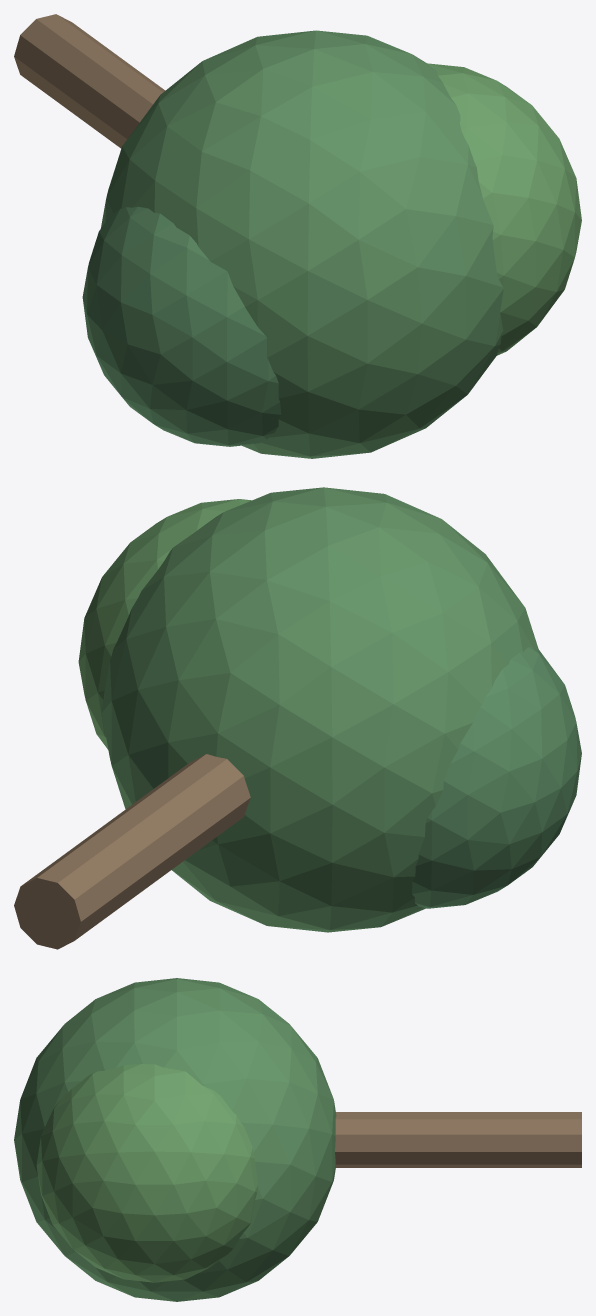
File: jungle_tree_01.glb
The picture shows the model from 3 angles, top to bottom: view 1: azimuth 30°, elevation 25°; view 2: azimuth 150°, elevation 25°; view 3: azimuth 270°, elevation 25°; orthographic projection. The views are drawn at different scales.
Parts seen in each view (by area): view 1: canopy_a, canopy_c, canopy_b, trunk; view 2: canopy_a, canopy_c, trunk, canopy_b; view 3: canopy_a, canopy_b, trunk.
Part boxes in pixels (bbox=[...]): canopy_a: bbox=[101, 30, 503, 458]; canopy_c: bbox=[82, 206, 281, 446]; canopy_b: bbox=[426, 63, 581, 355]; trunk: bbox=[14, 14, 165, 148]; canopy_a: bbox=[101, 487, 538, 932]; canopy_c: bbox=[412, 647, 581, 908]; trunk: bbox=[14, 754, 250, 949]; canopy_b: bbox=[78, 499, 251, 749]; canopy_a: bbox=[14, 978, 336, 1301]; canopy_b: bbox=[36, 1064, 257, 1282]; trunk: bbox=[335, 1112, 581, 1167].
Size of the model in its own units: 3.5 by 2.9 by 5.05.
